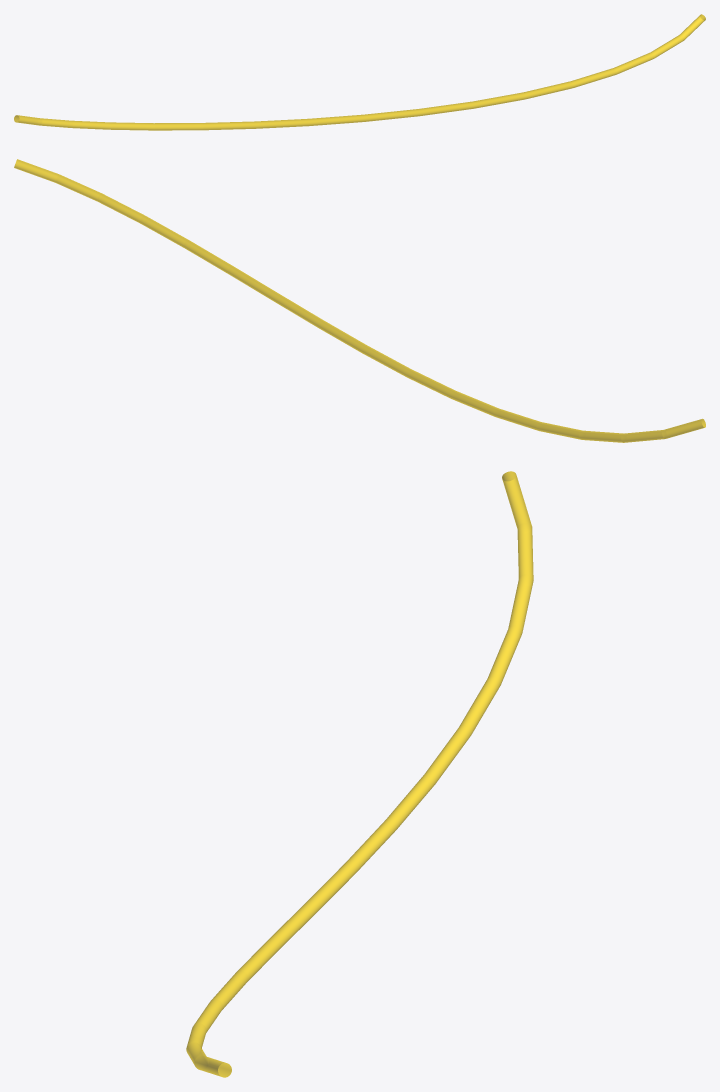
Rendered from Event_17758602_track_98.fbx.
3 views of the same model, one above another, from view 1: azimuth 30°, elevation 25°; view 2: azimuth 150°, elevation 25°; view 3: azimuth 270°, elevation 25° (orthographic). The views are drawn at different scales.
Parts seen in each view (by area): view 1: Model; view 2: Model; view 3: Model.
Boxes of the visible parts, box(x1,y1,x2,y2) form: Model: box(14, 14, 705, 130); Model: box(14, 159, 705, 442); Model: box(186, 471, 533, 1077).
Bounding box in the file's own units: 3.84 × 0.3327 × 0.9353.
